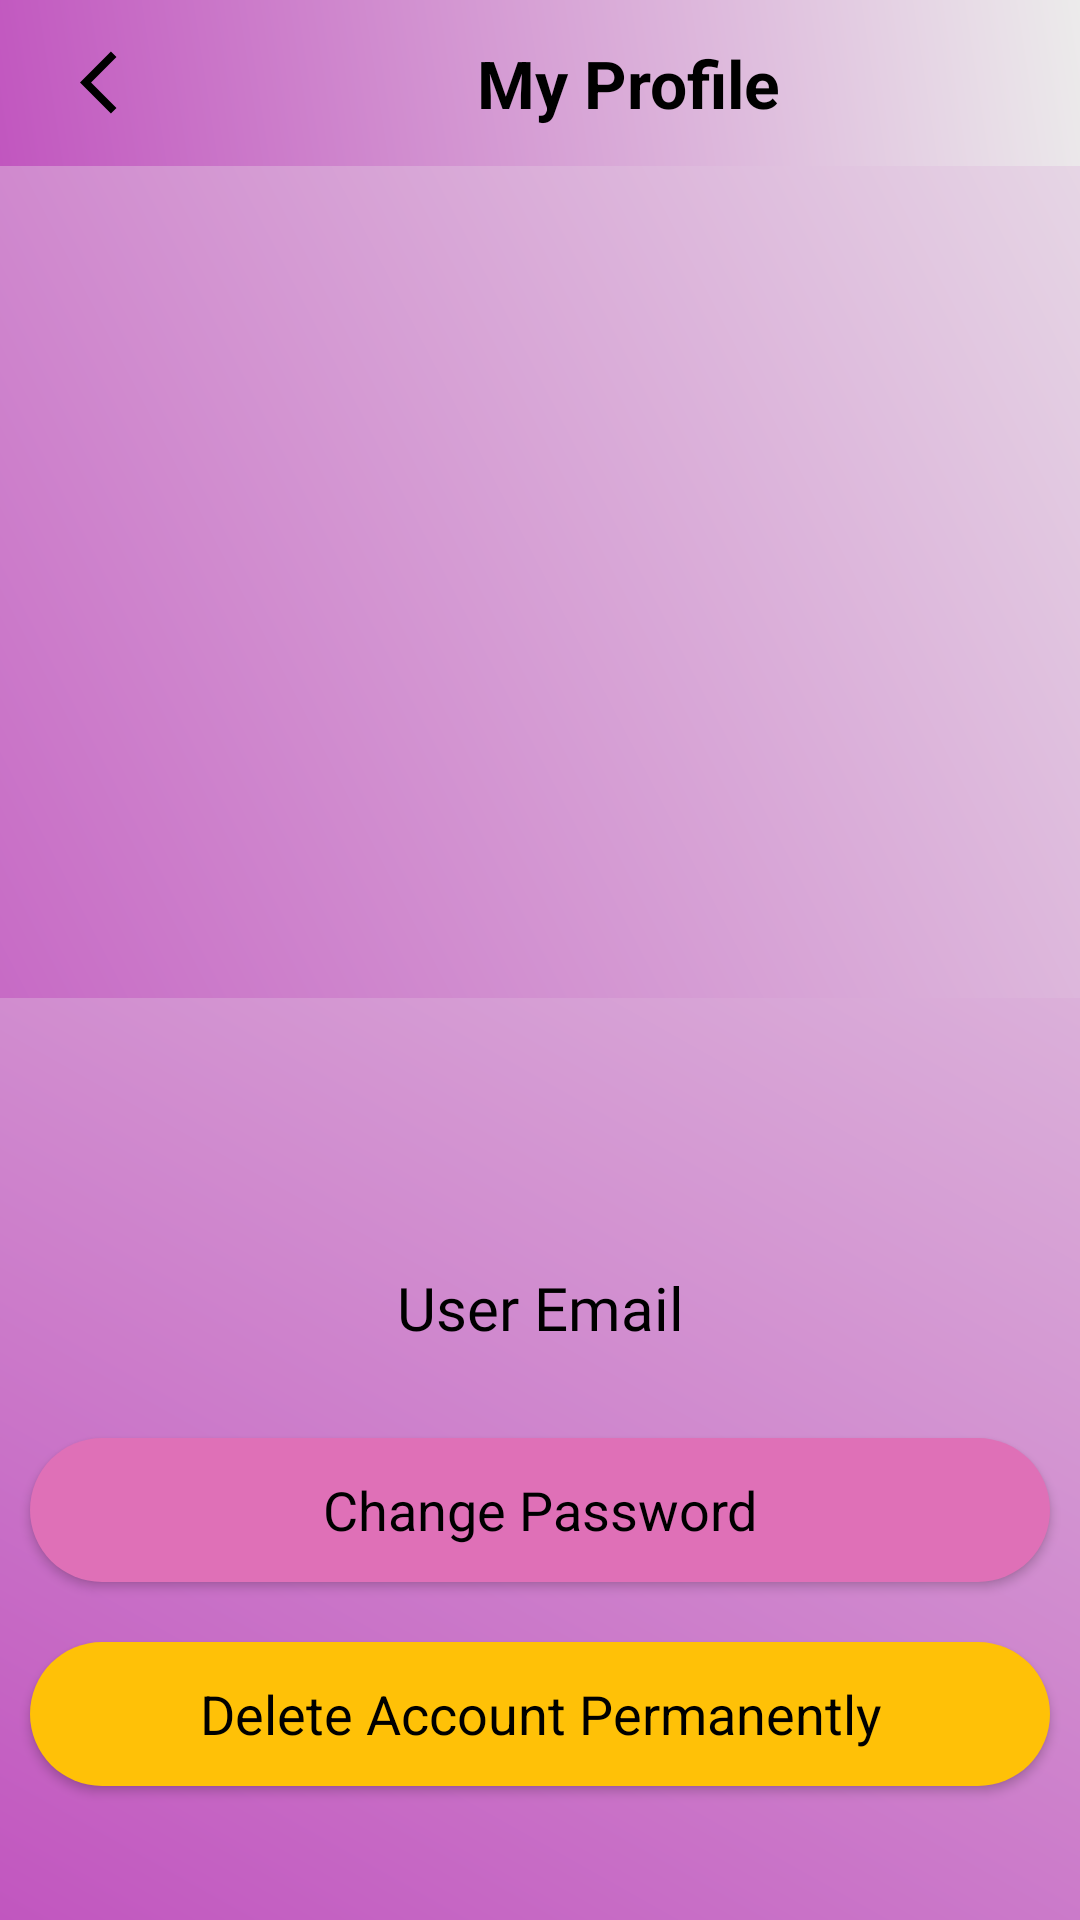

Screen size 1080×1920. Icon name, then its box in pixels as (x1, y1, x2, y2):
Back Arrow: (80, 51, 116, 114)
